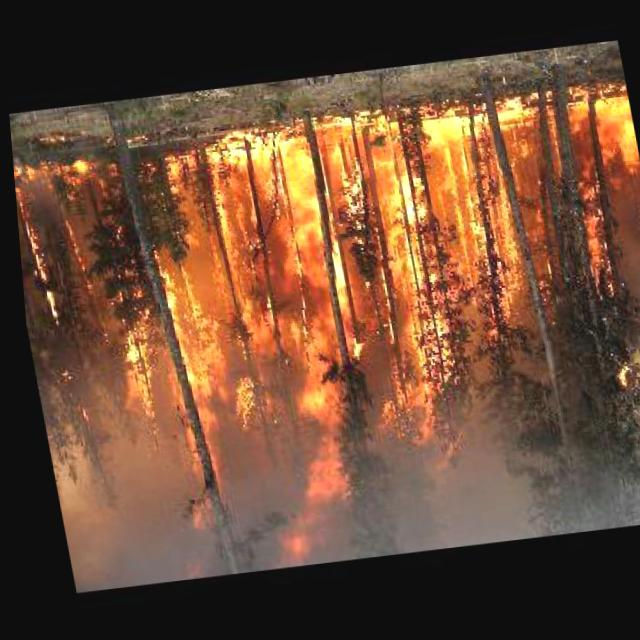helmet: (6, 87, 640, 577)
